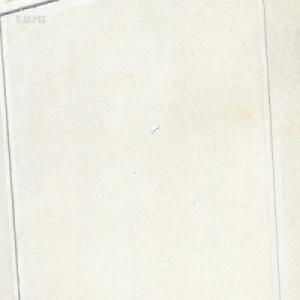Wrench: (150, 122, 160, 134)
